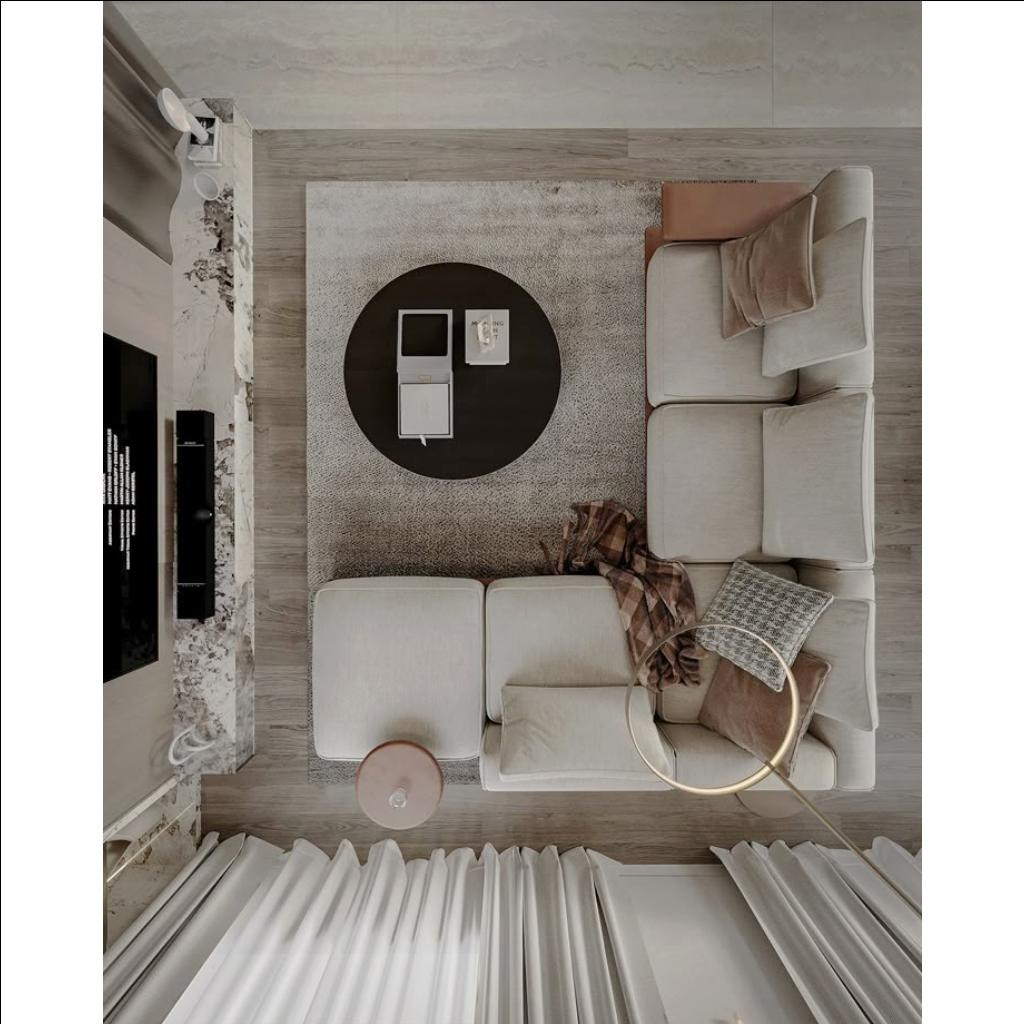TV stand: (108, 97, 260, 827)
coffee table: (342, 258, 564, 484)
ottoman: (314, 576, 476, 758)
rug: (304, 172, 752, 776)
sofa: (643, 179, 875, 561), (485, 568, 877, 790)
window: (108, 997, 612, 1021), (804, 996, 922, 1022)
